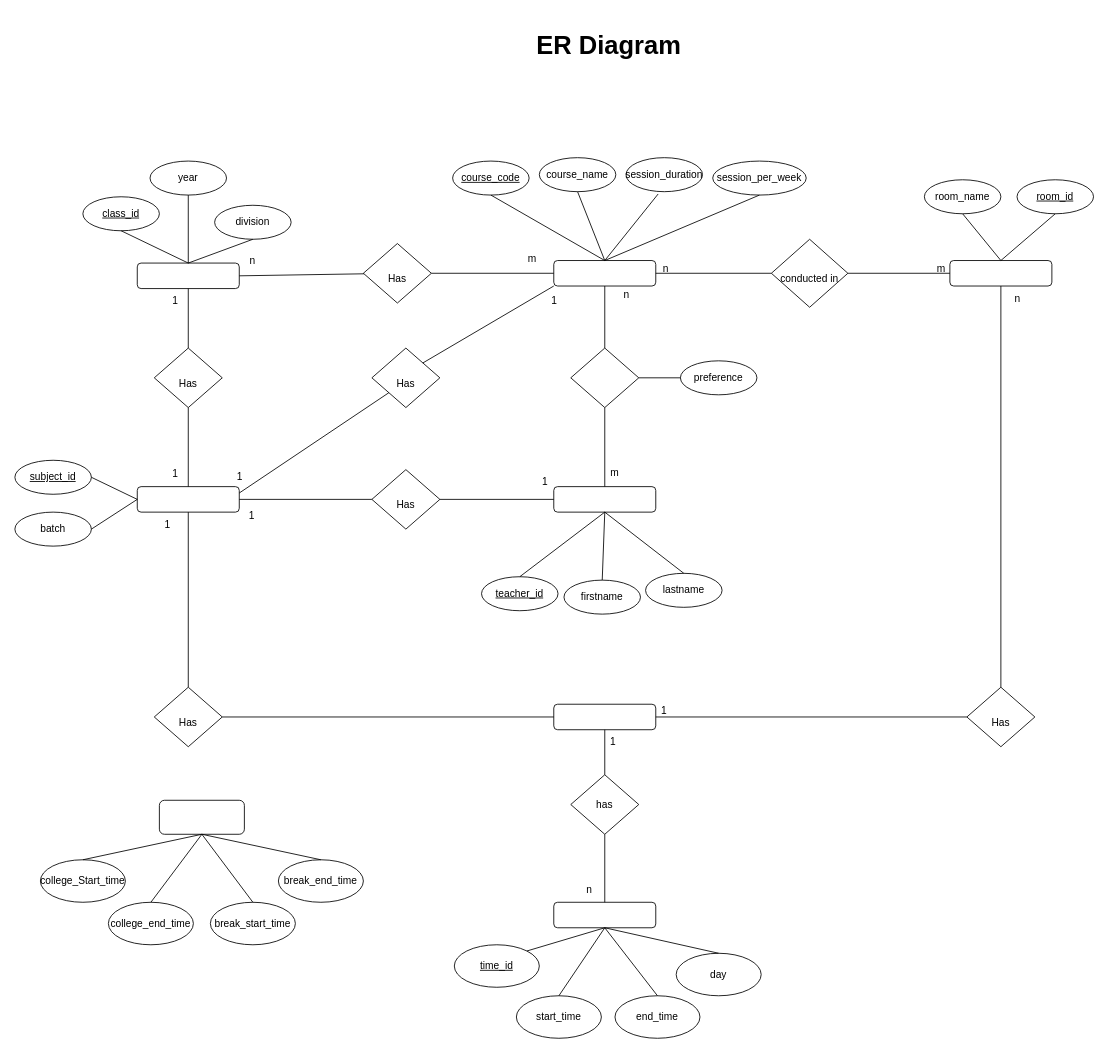
The diagram is 1108 pixels wide and 1053 high, and some of its shapes have lost their labels. The box of each missing label's shape, as (x1, y1, x2, y2) in pixels:
Class: (136, 262, 239, 289)
conducted by: (570, 347, 639, 408)
Course: (553, 260, 656, 286)
Rooms: (949, 260, 1052, 286)
Subject: (136, 486, 239, 512)
Teacher: (553, 486, 656, 512)
Time Info: (159, 799, 244, 834)
Time Slots: (553, 901, 656, 928)
Time Table: (553, 703, 656, 730)
